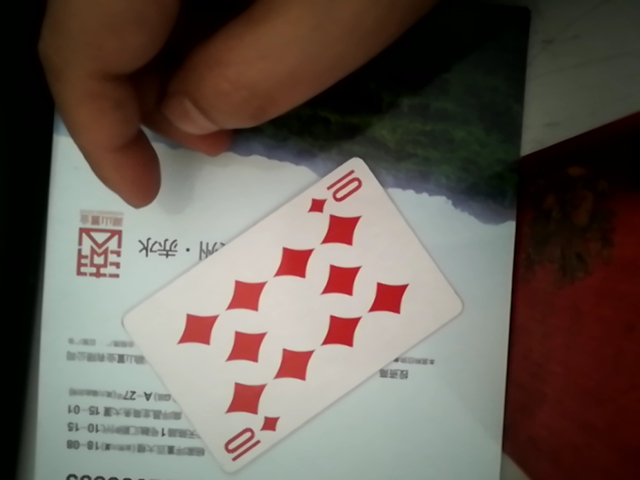fk 10: (147, 158, 458, 461)
